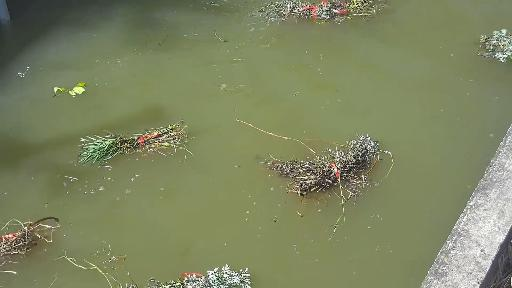leaf: (40, 80, 96, 94)
twig: (234, 112, 398, 243), (251, 0, 417, 37), (70, 122, 190, 165), (0, 206, 74, 267), (55, 246, 148, 288), (144, 264, 264, 288), (476, 26, 512, 61)
